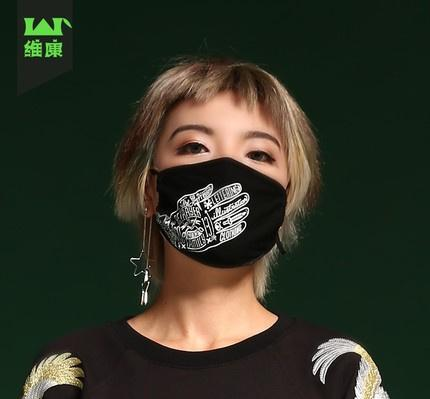OK: (144, 113, 297, 266)
